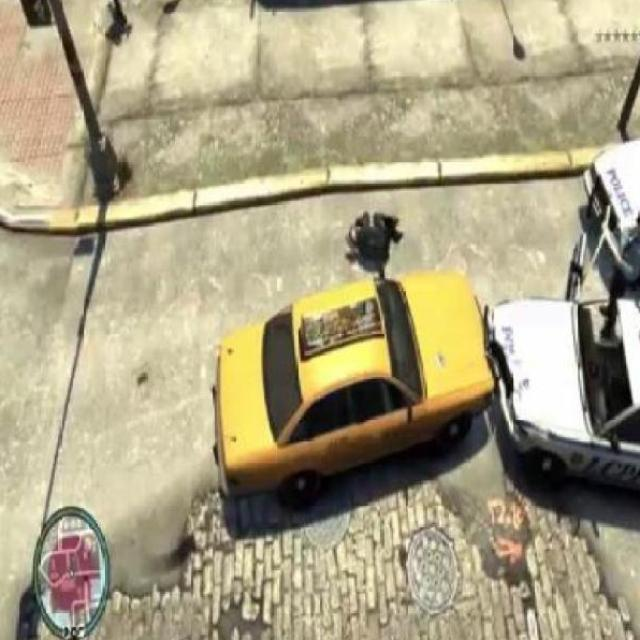accident: (372, 274, 640, 471)
